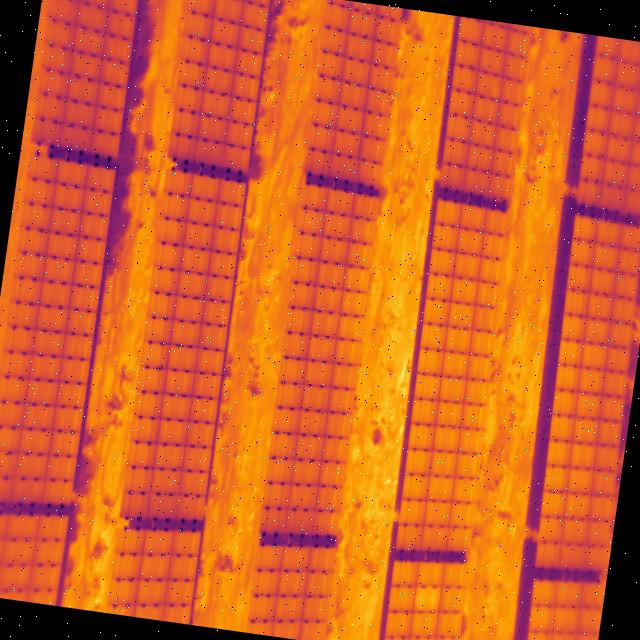Hotspot: (413, 584, 442, 614)
